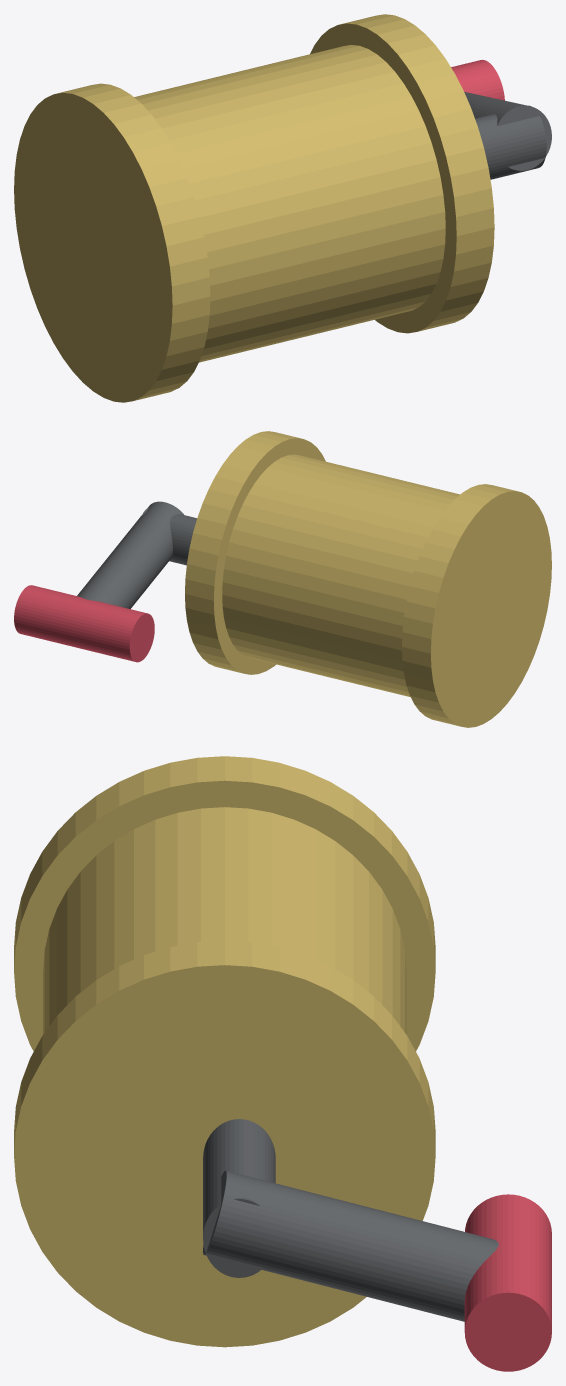
Rendered from fishing reel.glb.
3 renders of one model, top to bottom at view 1: azimuth 30°, elevation 25°; view 2: azimuth 150°, elevation 25°; view 3: azimuth 270°, elevation 25°, orthographic. The views are drawn at different scales.
Visible parts, largest first — view 1: Mesh_Mesh_head_geo.001_lambert2SG.001; view 2: Mesh_Mesh_head_geo.001_lambert2SG.001; view 3: Mesh_Mesh_head_geo.001_lambert2SG.001.
Part boxes in pixels (box(x1,y1,x2,y2)): Mesh_Mesh_head_geo.001_lambert2SG.001: box(14, 14, 551, 402); Mesh_Mesh_head_geo.001_lambert2SG.001: box(14, 431, 551, 727); Mesh_Mesh_head_geo.001_lambert2SG.001: box(14, 756, 551, 1371).
Bounding box in the file's own units: 0.053 × 0.029 × 0.037.
